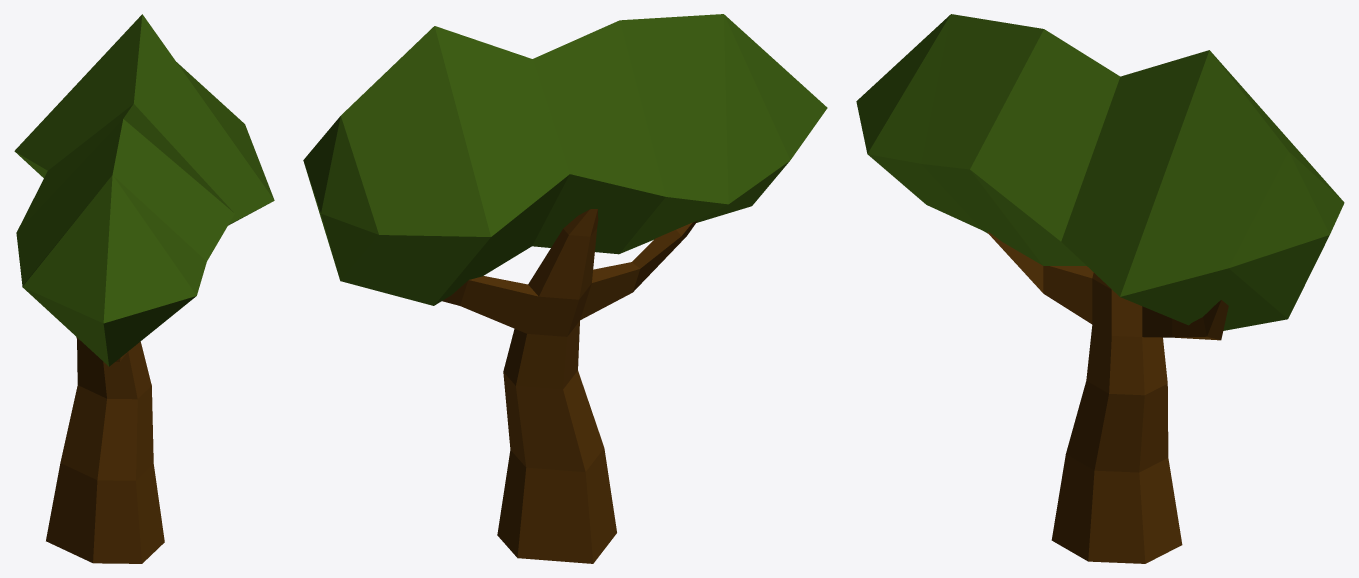
File: Trees 1.fbx
3 renders of one model, left to right at view 1: azimuth 30°, elevation 25°; view 2: azimuth 150°, elevation 25°; view 3: azimuth 270°, elevation 25°, orthographic. The views are drawn at different scales.
Visible parts, largest first — view 1: Cube.001, Cube; view 2: Cube.001, Cube; view 3: Cube.001, Cube.
Boxes of the visible parts, x1,y1,x2,y2 form: Cube.001: [14, 14, 274, 366]; Cube: [46, 337, 164, 563]; Cube.001: [303, 14, 827, 305]; Cube: [442, 209, 697, 563]; Cube.001: [856, 14, 1344, 330]; Cube: [988, 232, 1228, 563].
Size of the model in its own units: 891 by 1224 by 1023.
